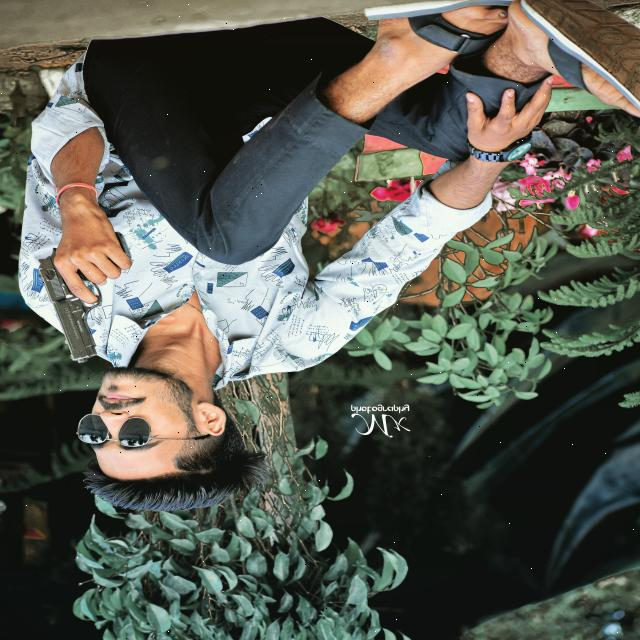gun: (23, 222, 153, 370)
